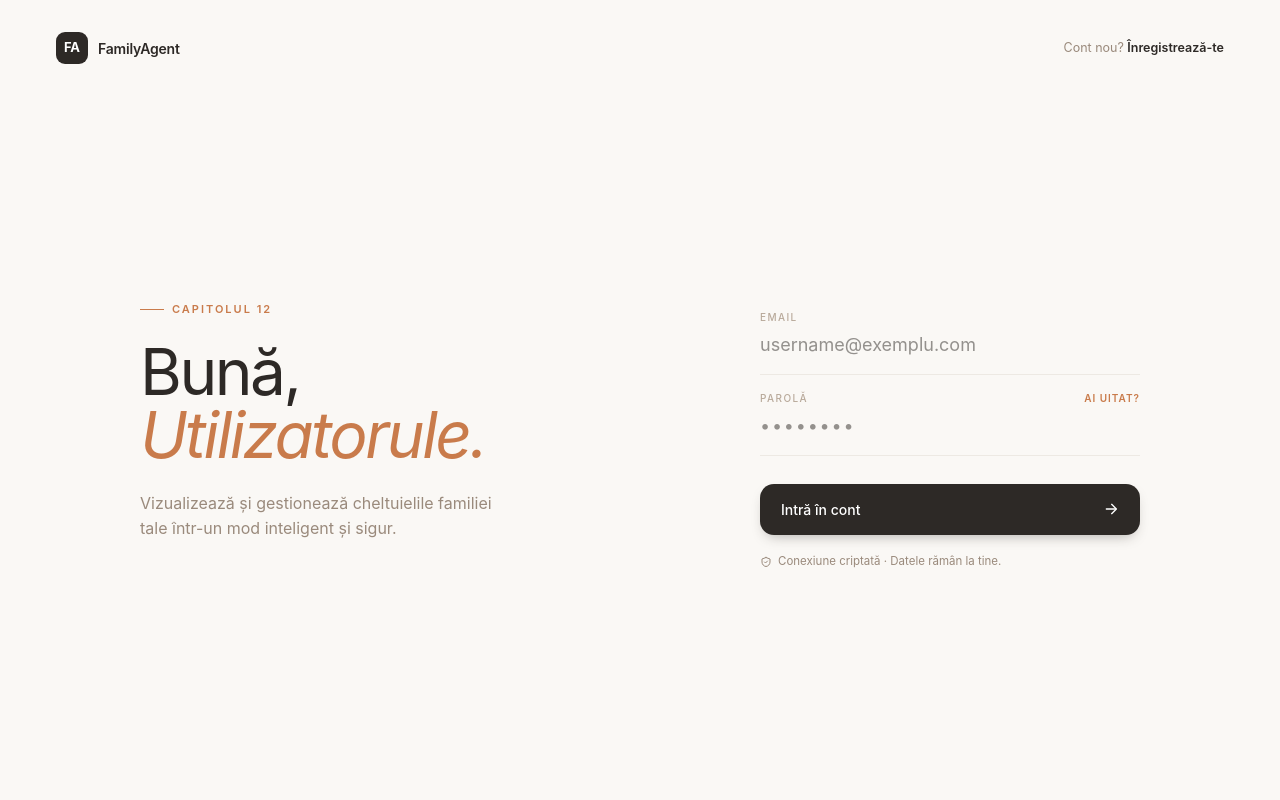
Test: LoginForm – ramuri lipsă (coverage 100%) › B. Afișează "Token lipsă" când serverul returnează răspuns fără câmpul token
In the field with placeholder "username@exemplu.com": (950,344) [760,331,1140,358], type "test@example.com"
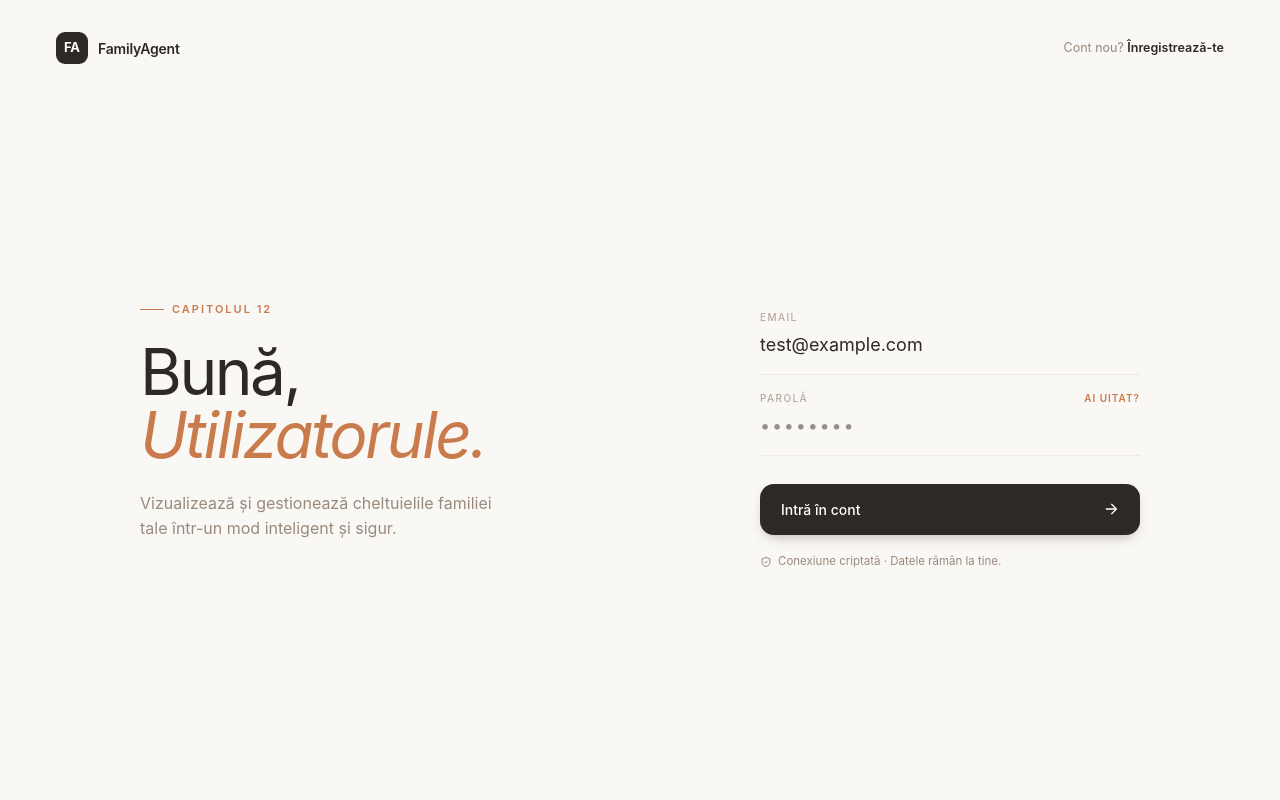
In the password field with placeholder "••••••••": (950,425) [760,412,1140,439], type "password123"
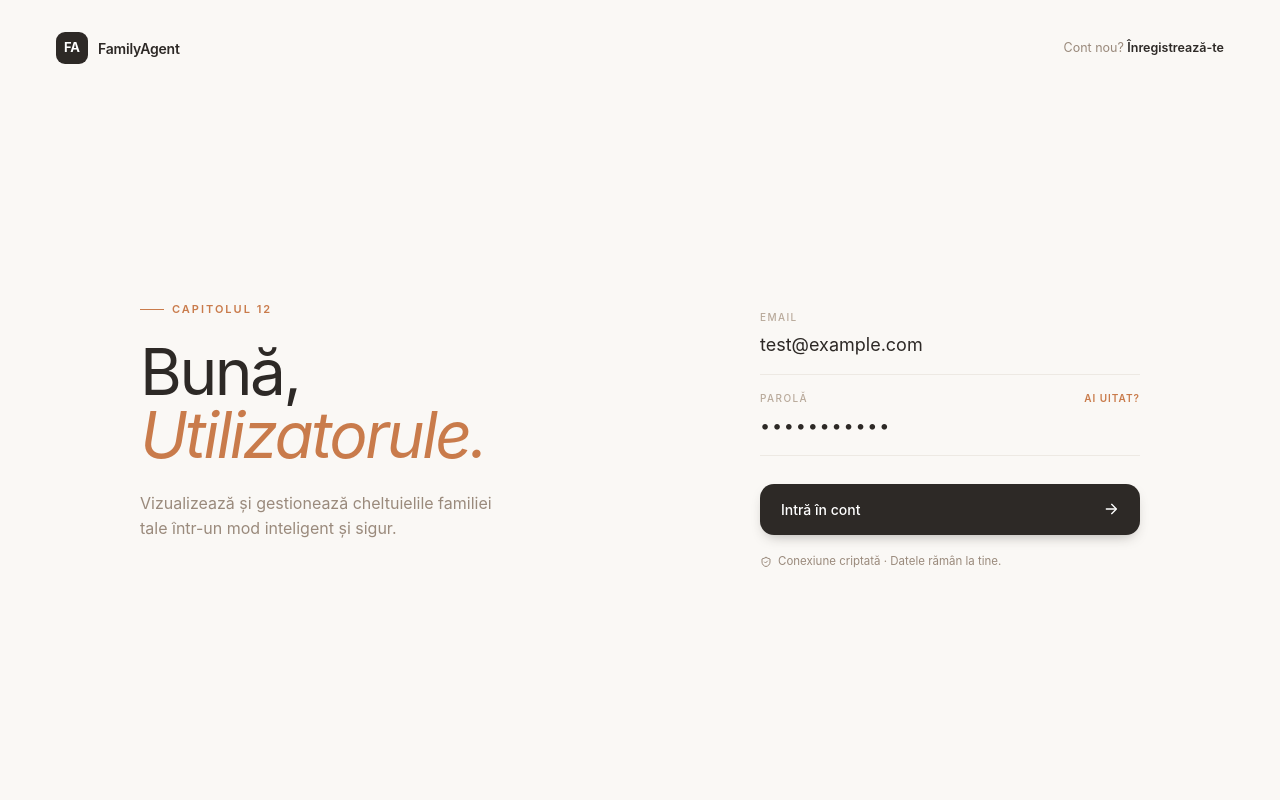
Submit the form with placeholder "username@exemplu.com", box [760,294,1140,570]
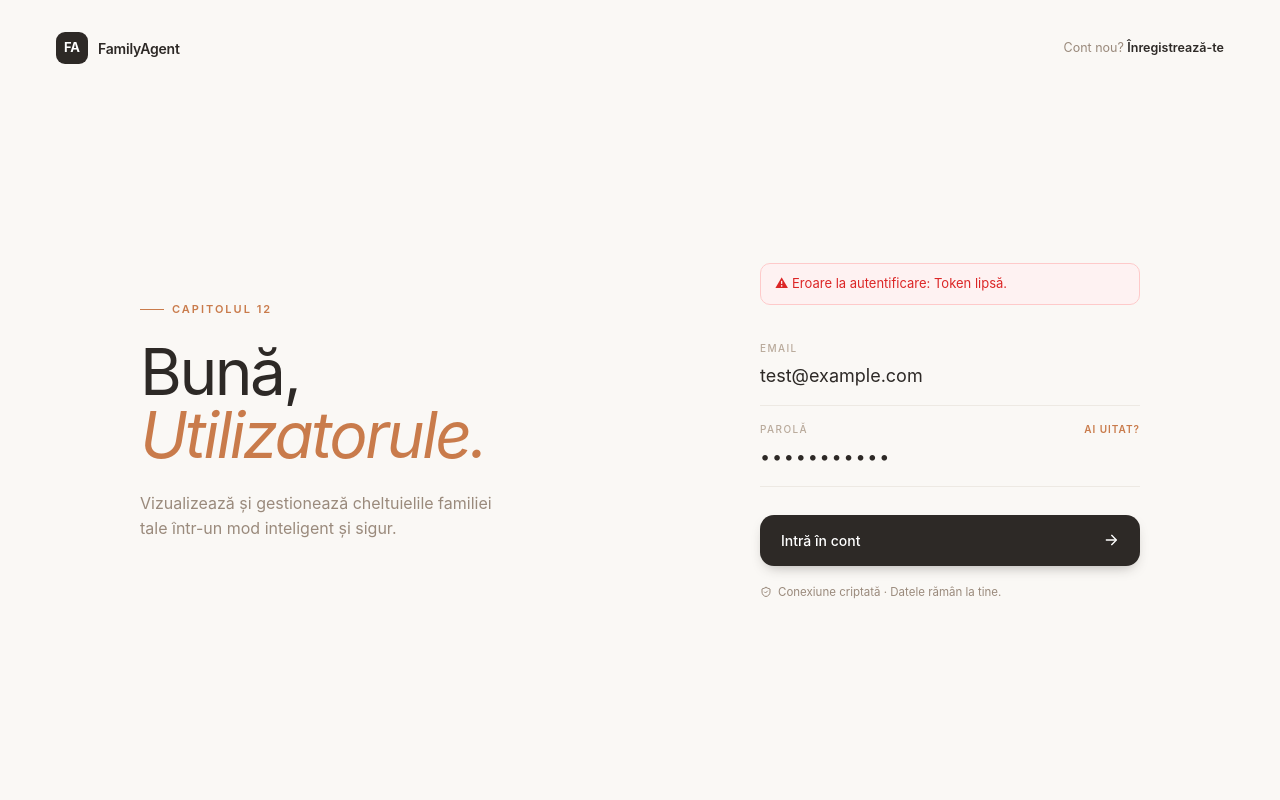
Now the text "⚠ Eroare la autentificare: Token lipsă." is shown, box [760,263,1140,305]
